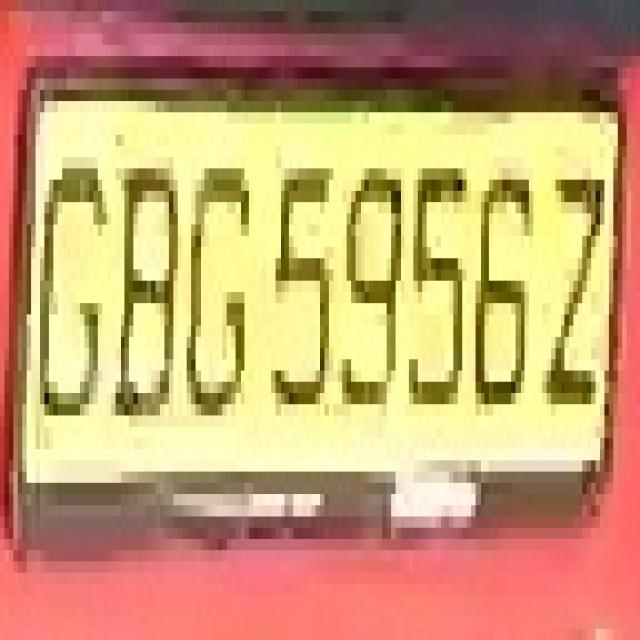5: (276, 135, 334, 438), (413, 146, 467, 460)
6: (466, 124, 546, 472)
9: (324, 146, 404, 449)
B: (102, 146, 182, 438)
G: (36, 146, 106, 438), (178, 157, 249, 427)
Z: (542, 112, 600, 449)
